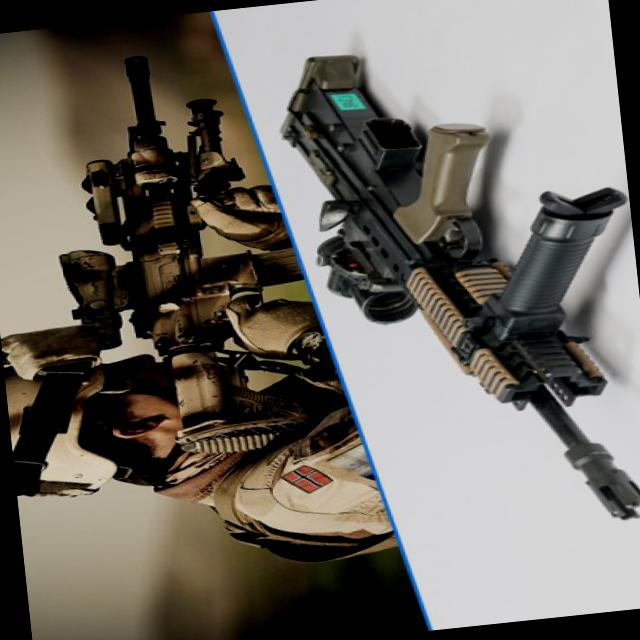long weapon: (258, 41, 639, 540)
